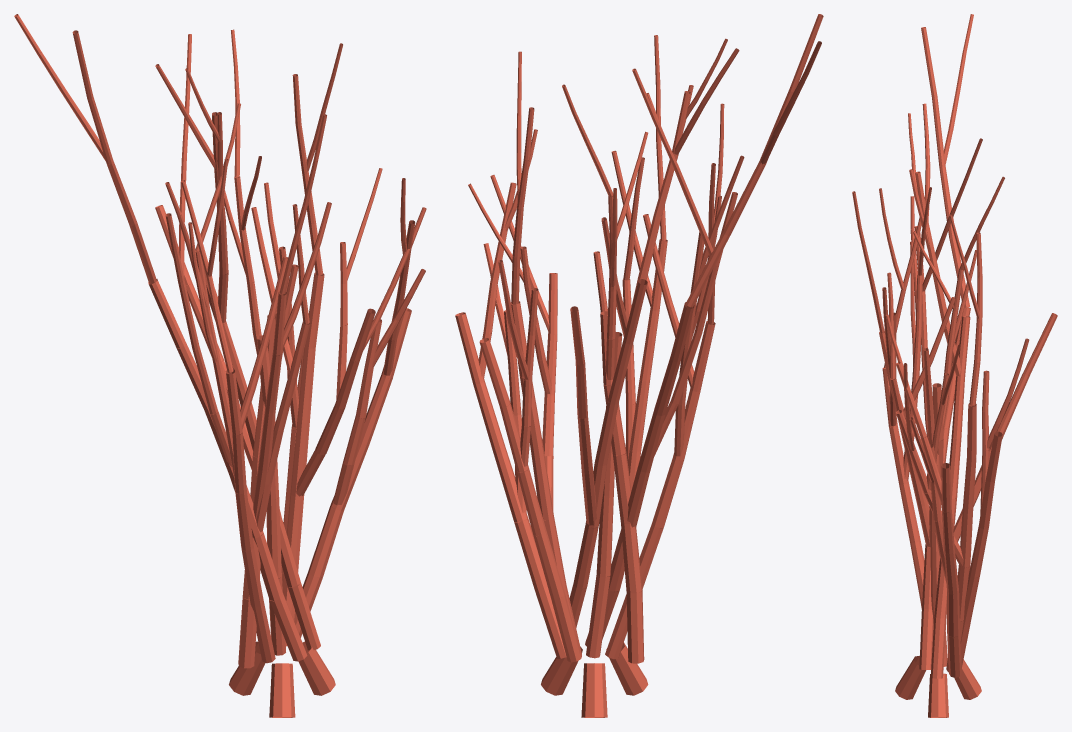
Rendered from coral1.obj.
3 renders of one model, left to right at view 1: azimuth 30°, elevation 25°; view 2: azimuth 150°, elevation 25°; view 3: azimuth 270°, elevation 25°, orthographic. The views are drawn at different scales.
Bounding box in the file's own units: 0.91 × 1.68 × 0.5247.
